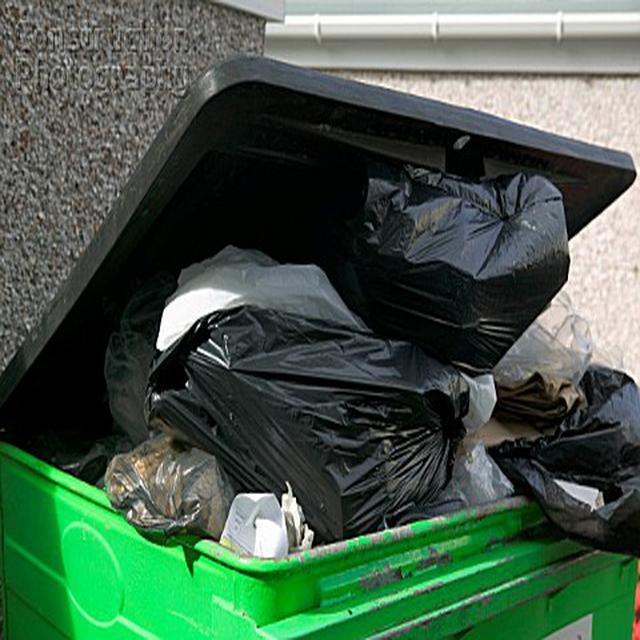garbage: (115, 260, 431, 565), (347, 162, 570, 369), (483, 347, 639, 551)
